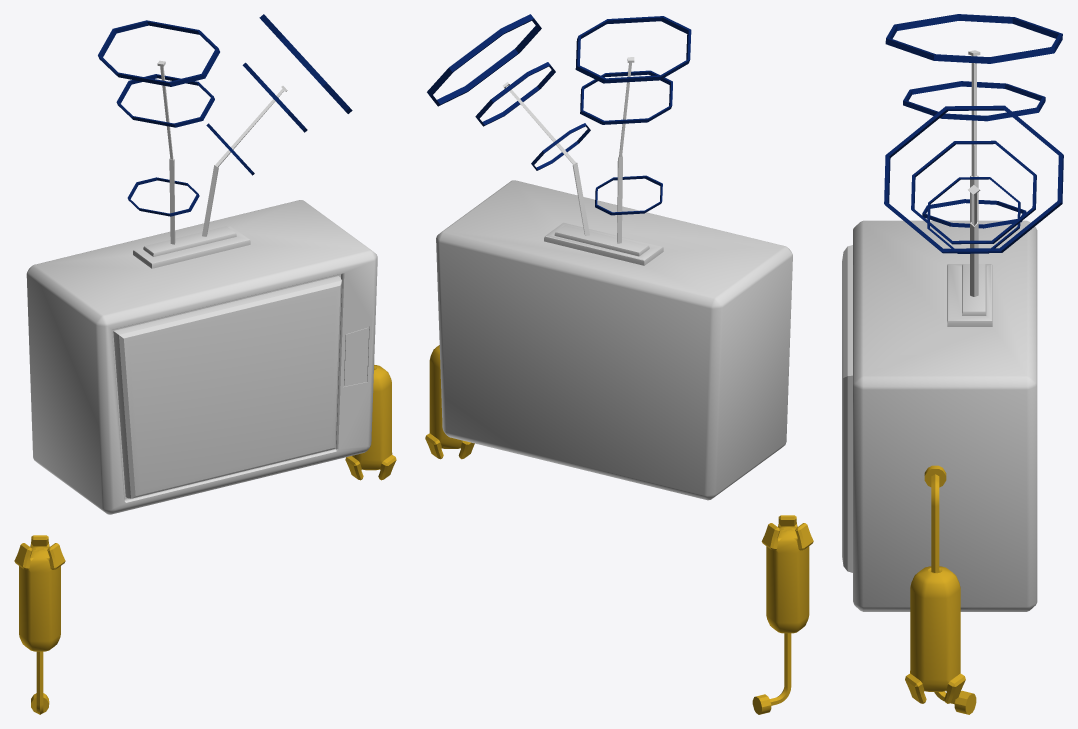
The model's file is TV+signals.FBX.
3 renders of one model, left to right at view 1: azimuth 30°, elevation 25°; view 2: azimuth 150°, elevation 25°; view 3: azimuth 270°, elevation 25°, orthographic. The views are drawn at different scales.
Visible parts, largest first — view 1: ChamferBox001, ChamferCyl007, Group001, ChamferCyl003, Line002; view 2: ChamferBox001, Group001, ChamferCyl007, ChamferCyl003, Line002; view 3: ChamferBox001, Group001, ChamferCyl003, Line002, ChamferCyl007.
Boxes of the visible parts, bbox=[...] form: ChamferBox001: bbox=[26, 200, 377, 514]; ChamferCyl007: bbox=[14, 535, 65, 714]; Group001: bbox=[98, 14, 352, 216]; ChamferCyl003: bbox=[345, 364, 396, 480]; Line002: bbox=[157, 60, 287, 244]; ChamferBox001: bbox=[436, 180, 792, 500]; Group001: bbox=[427, 14, 691, 215]; ChamferCyl007: bbox=[752, 515, 813, 714]; ChamferCyl003: bbox=[425, 345, 474, 459]; Line002: bbox=[502, 57, 634, 243]; ChamferBox001: bbox=[842, 220, 1037, 611]; Group001: bbox=[884, 14, 1063, 253]; ChamferCyl003: bbox=[905, 465, 965, 703]; Line002: bbox=[968, 50, 980, 296]; ChamferCyl007: bbox=[934, 690, 976, 714].
Bounding box in the file's own units: 373 × 608 × 162.
